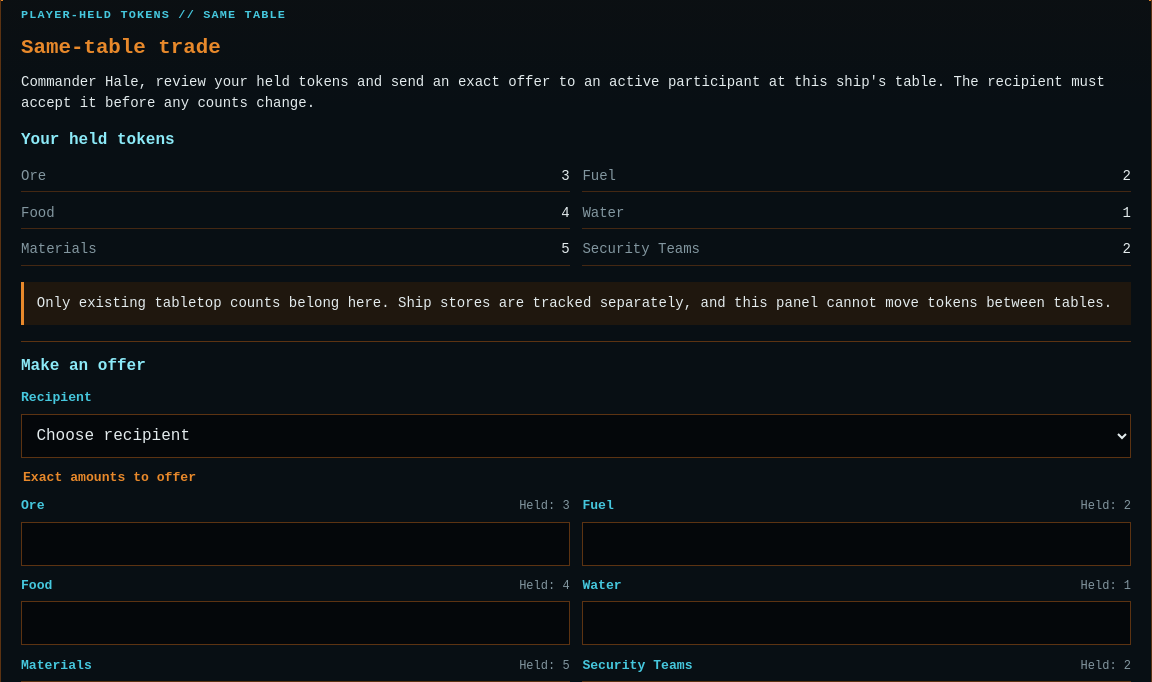
Test: requires a recipient and a positive whole quantity without allowing overdraw
Step 1. Select "Captain Vale" in the dropdown labelled "Recipient" → (576, 436), box [21,414,1131,458]
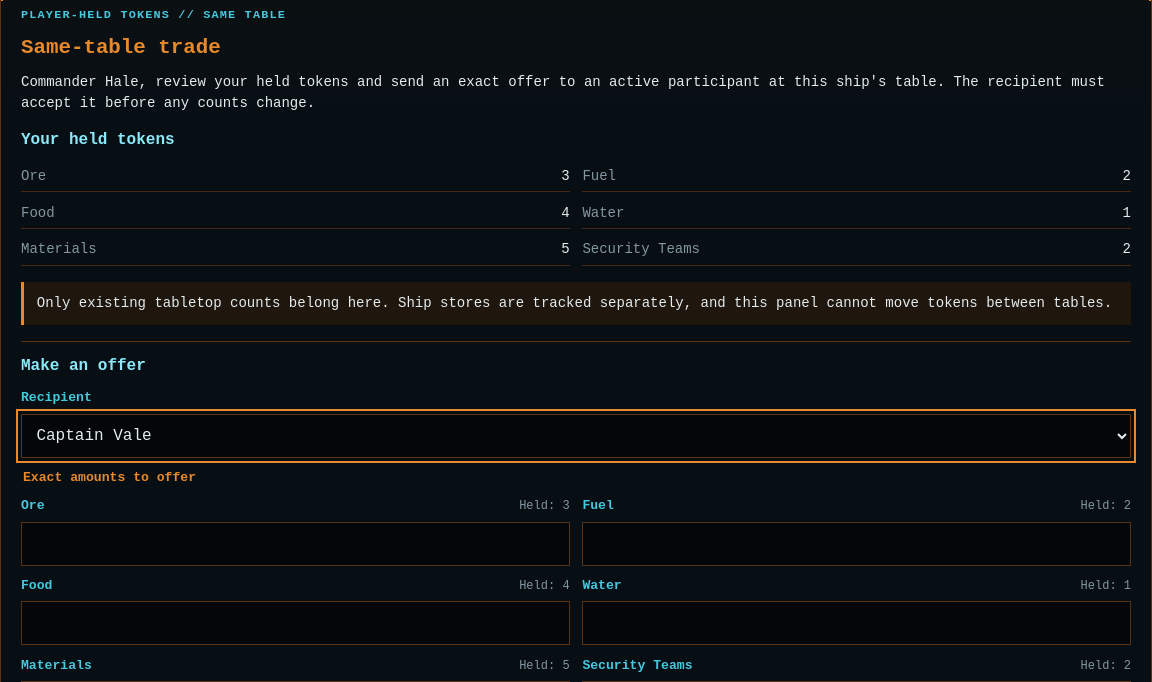
Step 2. Type "4" into the number field named "Ore amount" → (295, 544), box [21,522,570,566]
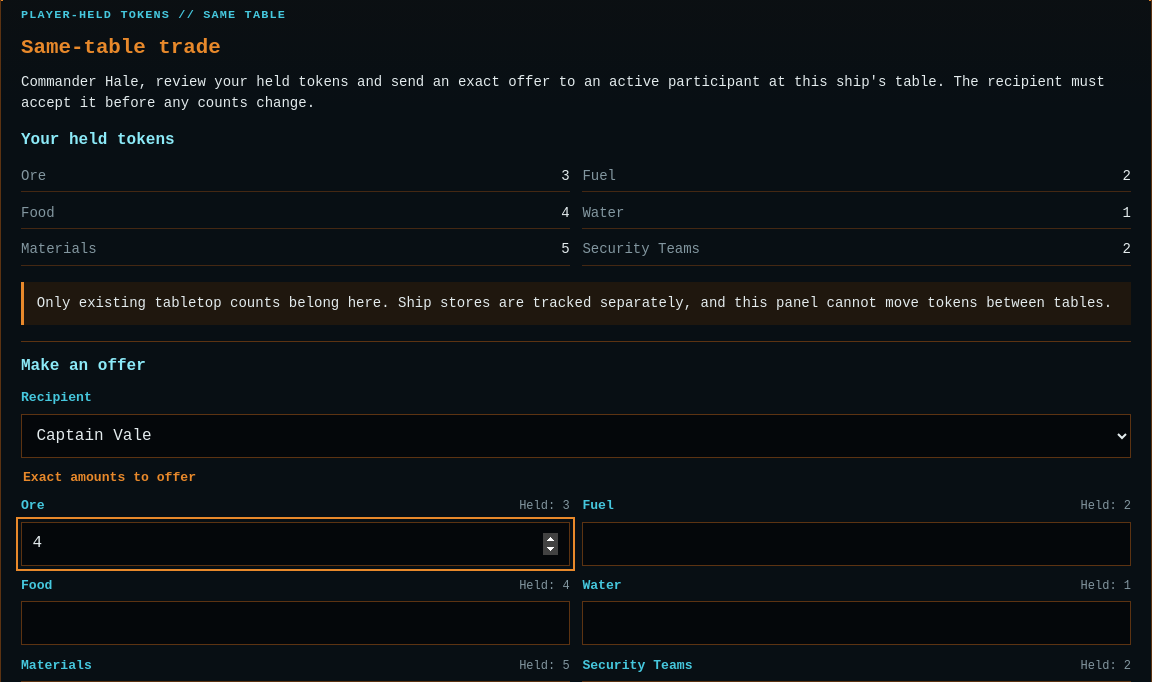
Step 3. Replace the text in the number field named "Ore amount" with "3" → (295, 544), box [21,522,570,566]
(page scrolled)
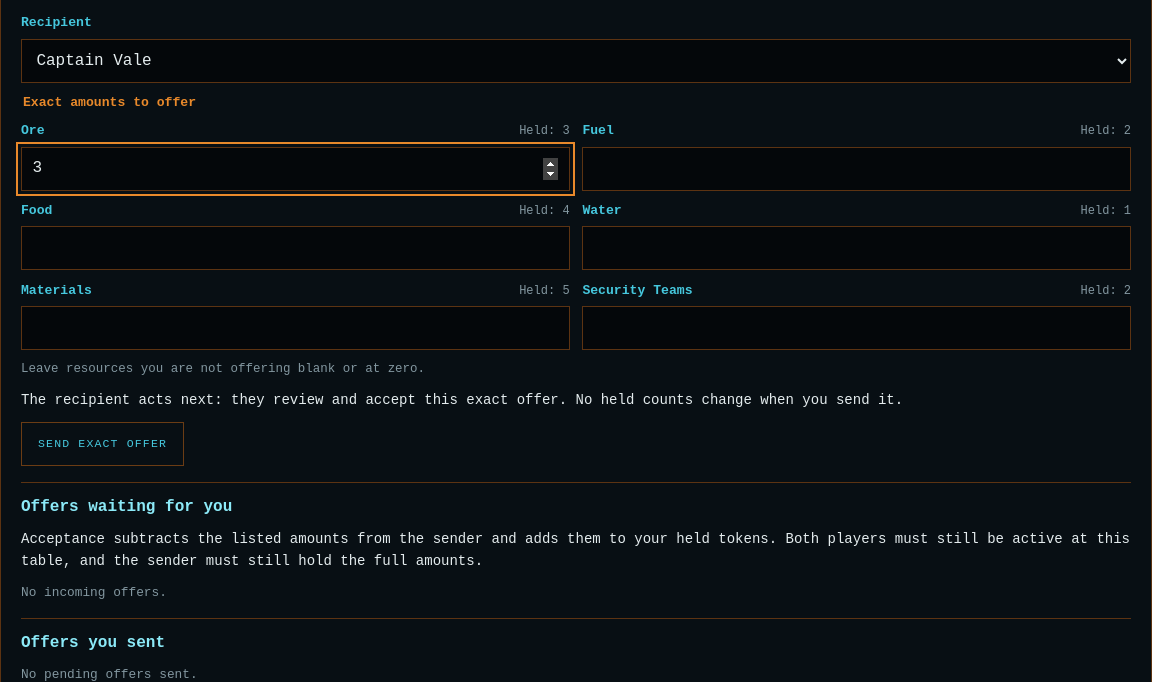
Expected: the button "Send exact offer" is enabled, [21,422,184,466]
